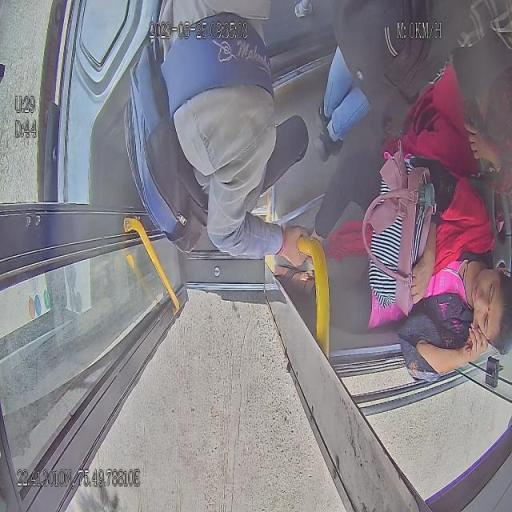persona: (292, 156, 512, 384), (124, 10, 312, 272), (317, 0, 481, 163)
